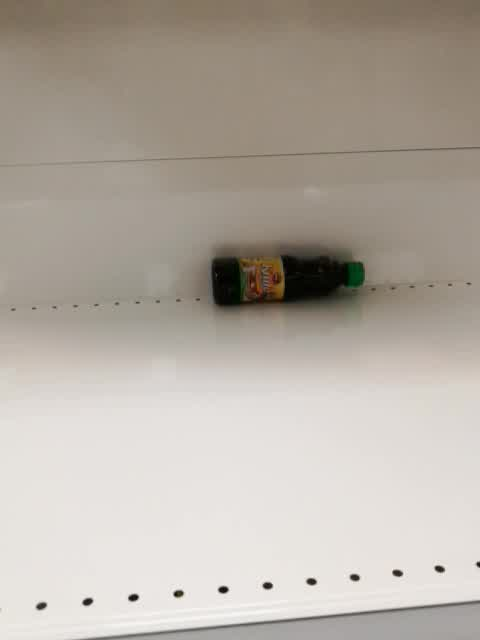cookingoil: (209, 253, 367, 307)
